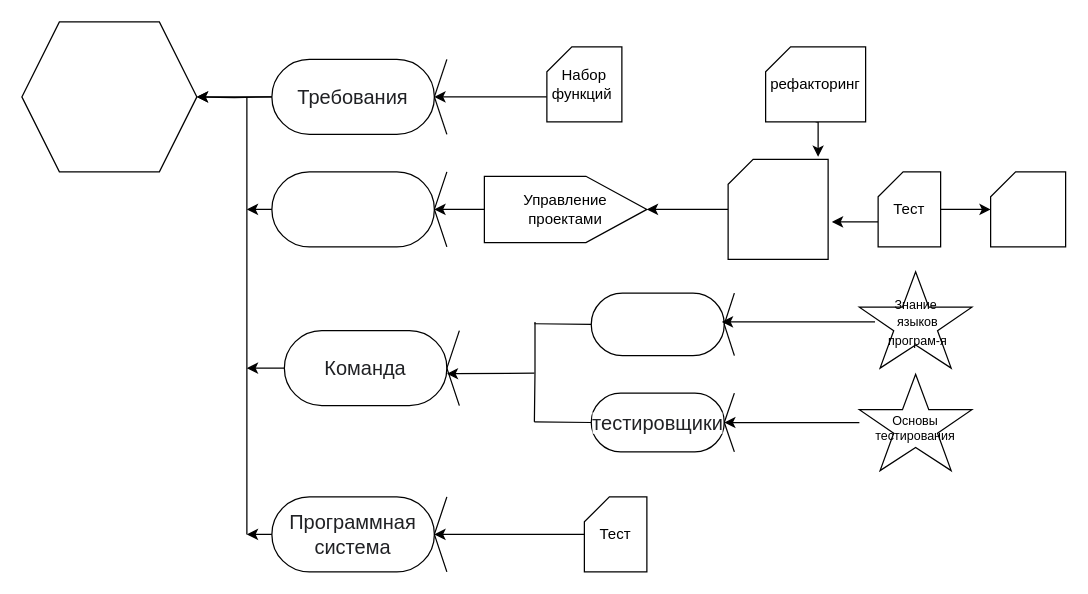
The diagram is 1088 pixels wide and 594 high, and some of its shapes have lost their labels. The shapes that lost their labels are listed below. From the top down, each one's centre as x and y in pixels, then its label:
At (109,96): "метод TDD".
At (352,209): "Работа".
At (777,208): "Программный продукт".
At (1027,209): "ошибка".
At (657,324): "Разработчики".
